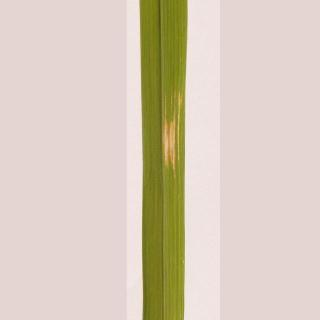Hawar-Daun: (138, 99, 196, 193)
